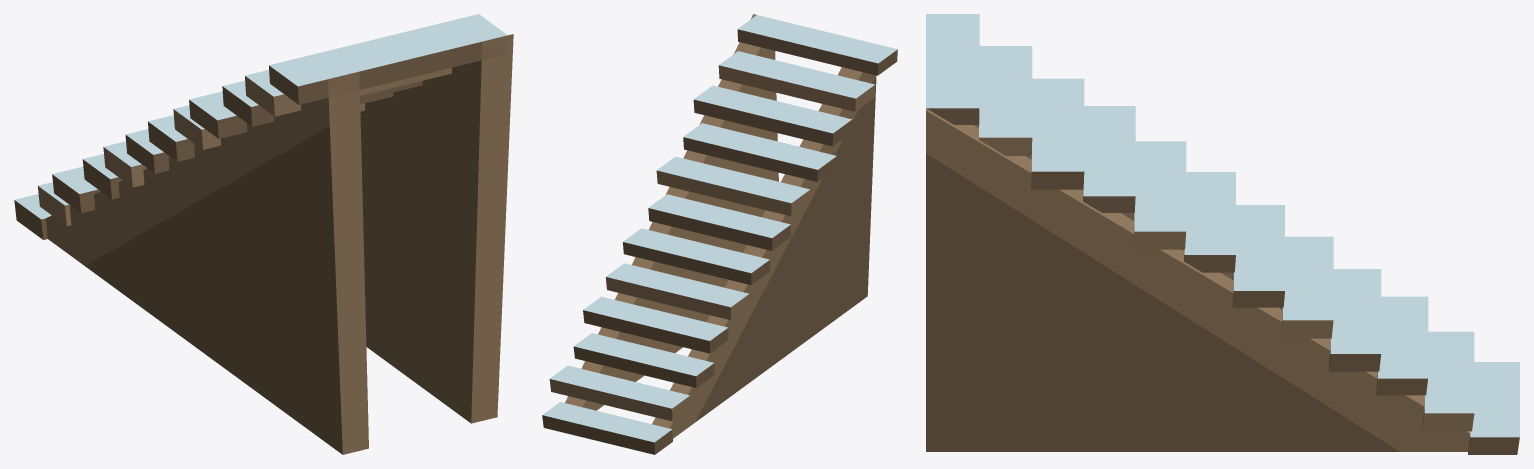
File: SM_Prop_Stairs_Wood_03_Snow.fbx
3 views of the same model, side by side, from view 1: azimuth 30°, elevation 25°; view 2: azimuth 150°, elevation 25°; view 3: azimuth 270°, elevation 25° (orthographic). The views are drawn at different scales.
Parts seen in each view (by area): view 1: SM_Prop_Stairs_Wood_03_Snow; view 2: SM_Prop_Stairs_Wood_03_Snow; view 3: SM_Prop_Stairs_Wood_03_Snow.
Boxes of the visible parts, left/top/right/bottom form: SM_Prop_Stairs_Wood_03_Snow: left=14, top=14, right=513, bottom=454; SM_Prop_Stairs_Wood_03_Snow: left=542, top=14, right=897, bottom=454; SM_Prop_Stairs_Wood_03_Snow: left=926, top=14, right=1519, bottom=454.
Bounding box in the file's own units: 60.92 × 99.53 × 154.
Materials: 1 (1 with a texture image).
